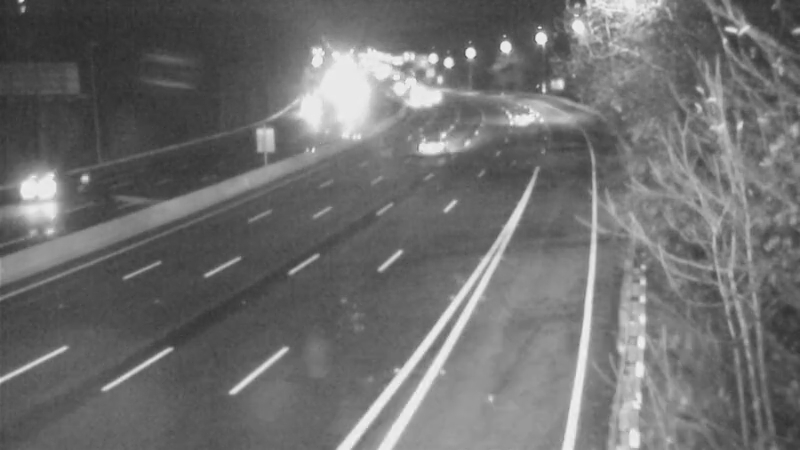vehicle: (1, 149, 81, 229), (393, 74, 443, 124), (492, 94, 542, 144), (407, 121, 457, 171), (282, 88, 332, 138)
